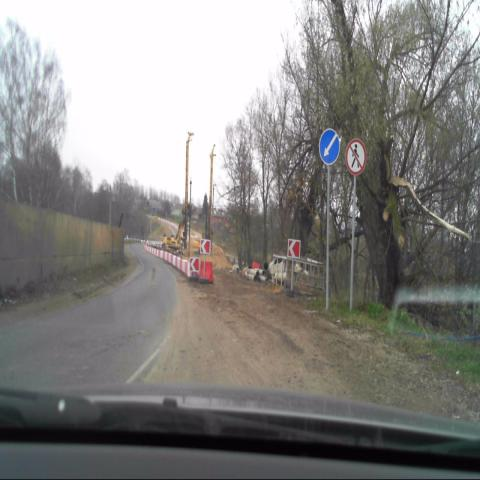3_10: (346, 137, 366, 175)
4_2_2: (318, 127, 340, 165)
